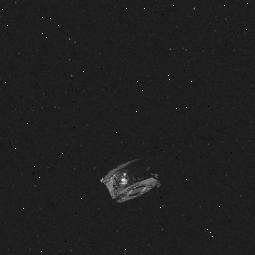lisa_pathfinder: (91, 150, 167, 208)
